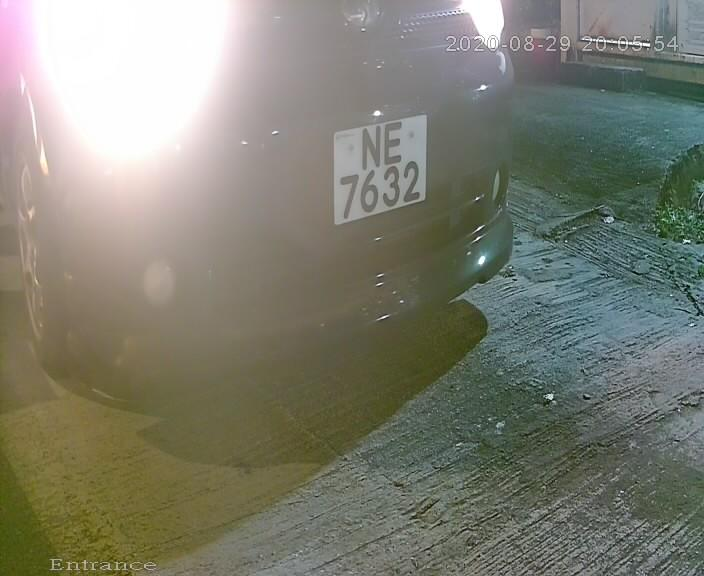License Plate: (321, 98, 434, 240)
